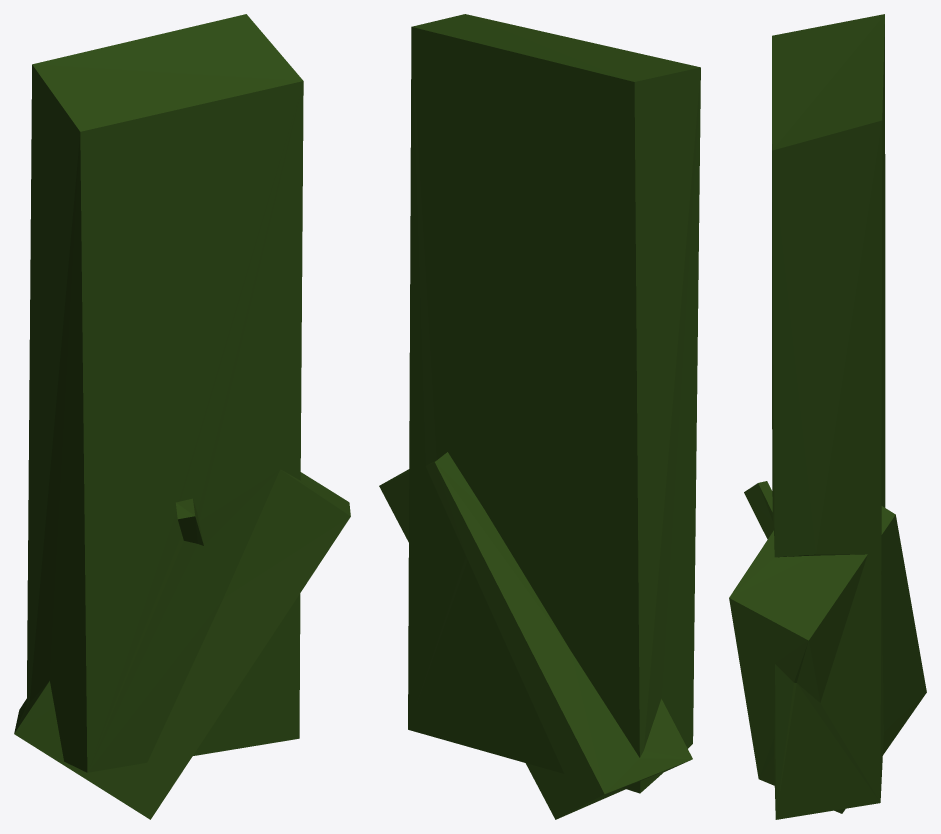
3 views of the same model, side by side, from view 1: azimuth 30°, elevation 25°; view 2: azimuth 150°, elevation 25°; view 3: azimuth 270°, elevation 25° (orthographic). The views are drawn at different scales.
Parts seen in each view (by area): view 1: 894_Cube.3609; view 2: 894_Cube.3609; view 3: 894_Cube.3609.
Boxes of the visible parts, x1,y1,x2,y2 form: 894_Cube.3609: (14,14,350,819); 894_Cube.3609: (379,14,700,819); 894_Cube.3609: (729,14,926,819).
Size of the model in its own units: 5.93 by 13.23 by 3.15.
